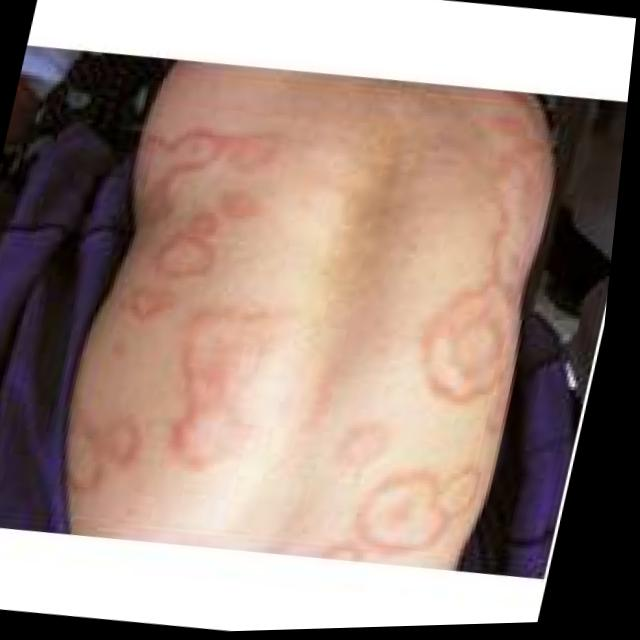Erythema marginatum: (312, 108, 559, 544), (74, 108, 344, 504)
